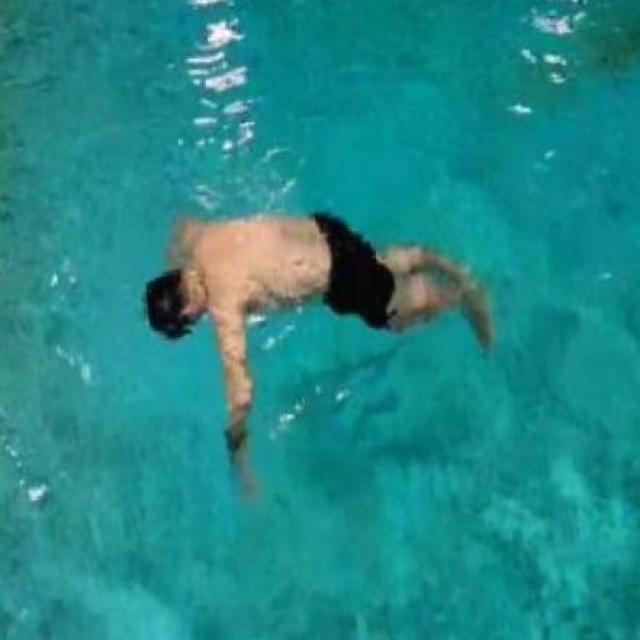Drowning: (146, 211, 498, 456)
